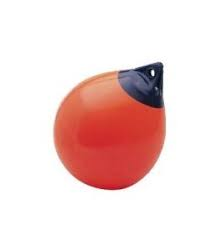buoy: (55, 72, 166, 192)
